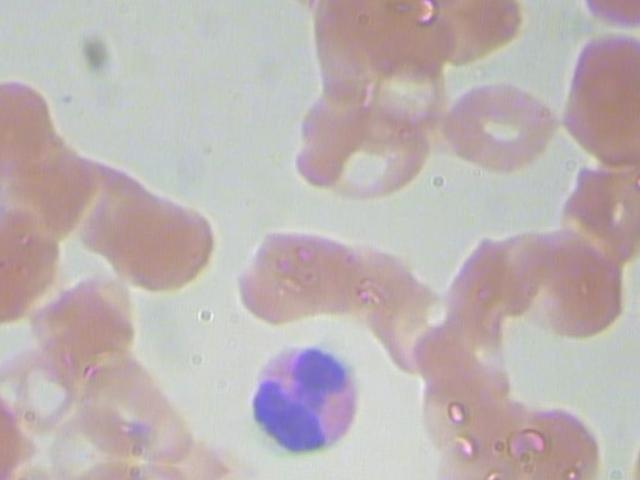RBC: (233, 214, 377, 338), (14, 261, 158, 384), (498, 223, 640, 347), (312, 98, 438, 212), (436, 76, 564, 181), (111, 185, 222, 299), (69, 351, 180, 465), (556, 26, 640, 175), (503, 396, 609, 480), (571, 0, 640, 34)
WBC: (397, 302, 523, 416)
